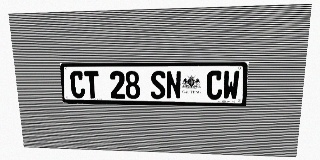2: (110, 71, 125, 99)
8: (125, 71, 140, 99)
C: (206, 71, 223, 100), (70, 71, 85, 98)
N: (166, 71, 181, 99)
S: (150, 71, 165, 99)
T: (84, 71, 100, 98)
W: (222, 71, 240, 100)
